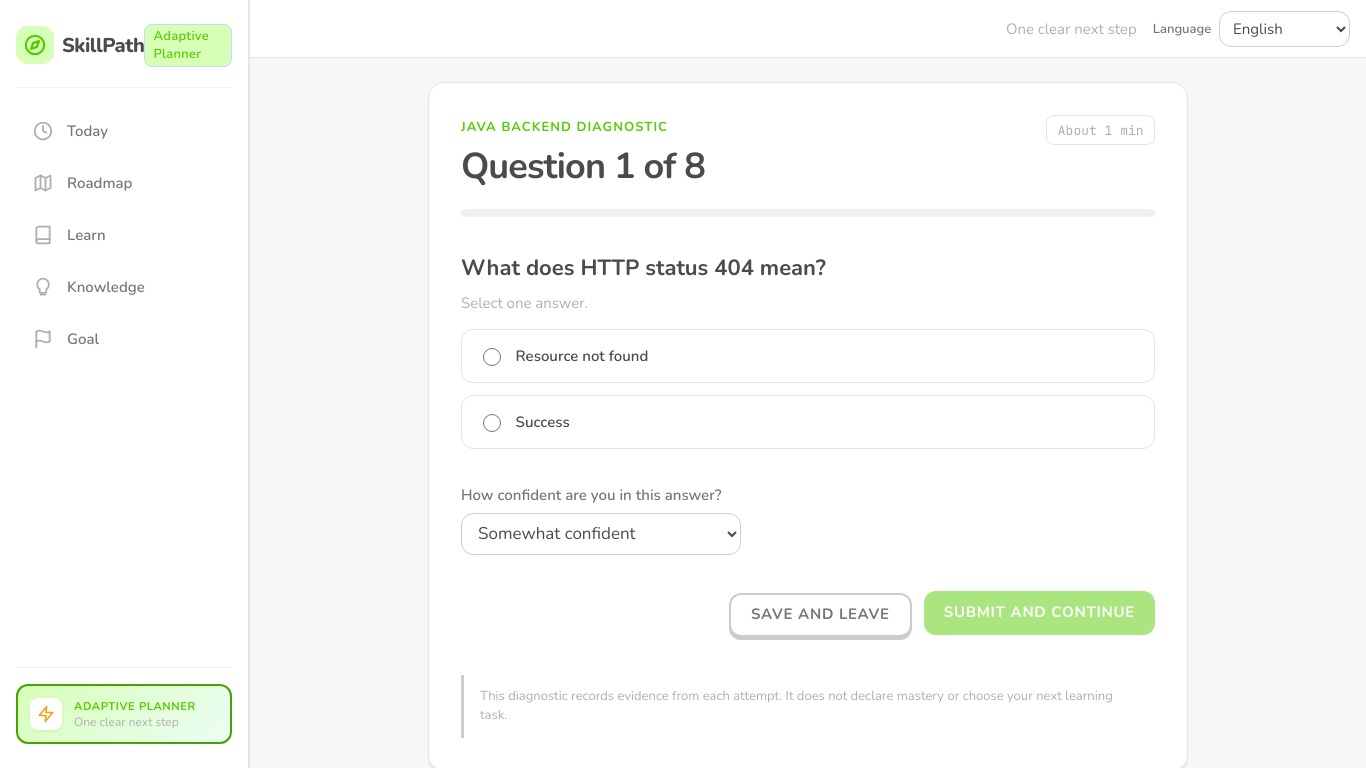
DiagnosticPage › switches server content language without losing the current selection
This screenshot has width=1366, height=768.
Click the radio button labelled "Resource not found" at (492, 357), box [483,348,501,366]
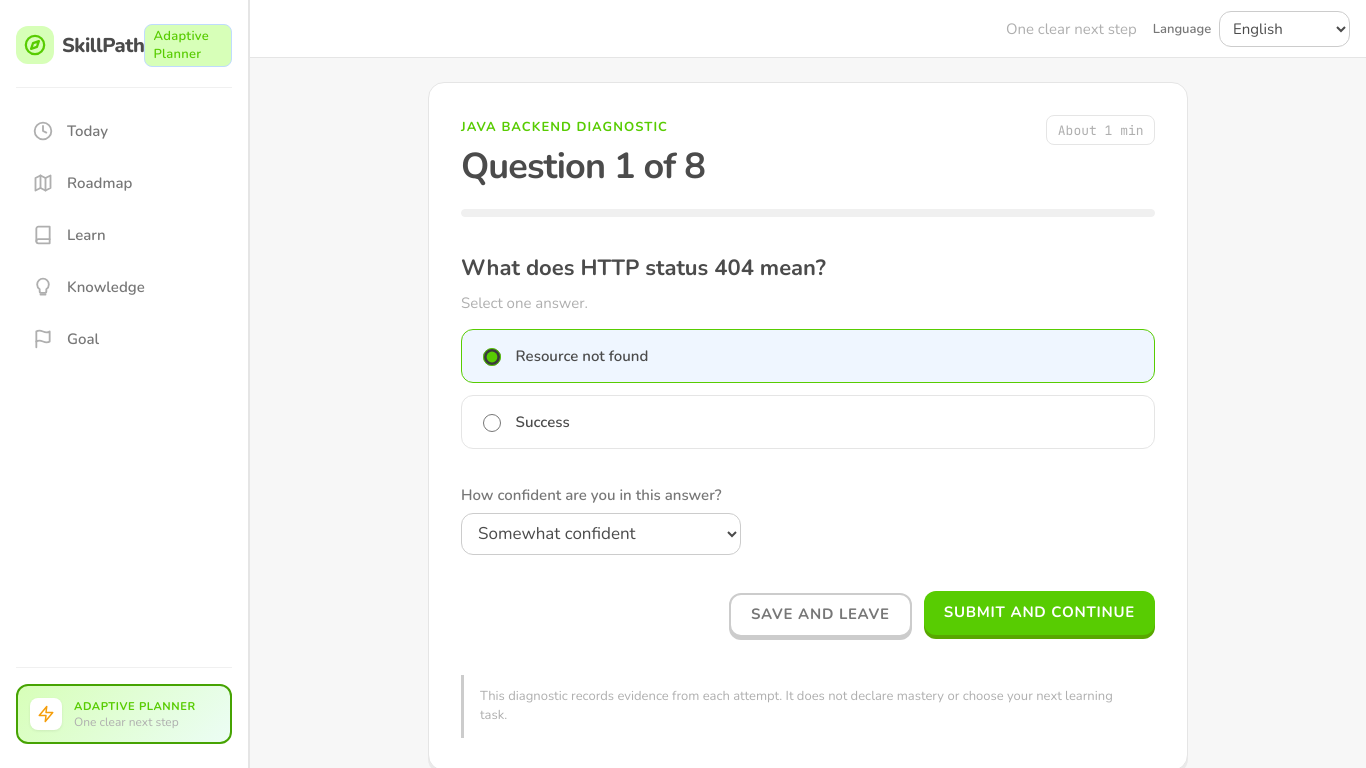
Result: the radio button labelled "Resource not found" is checked at [483,348,501,366]
Select "Tiếng Việt" in the dropdown labelled "Language" at (1285, 28), box [1219,10,1350,46]
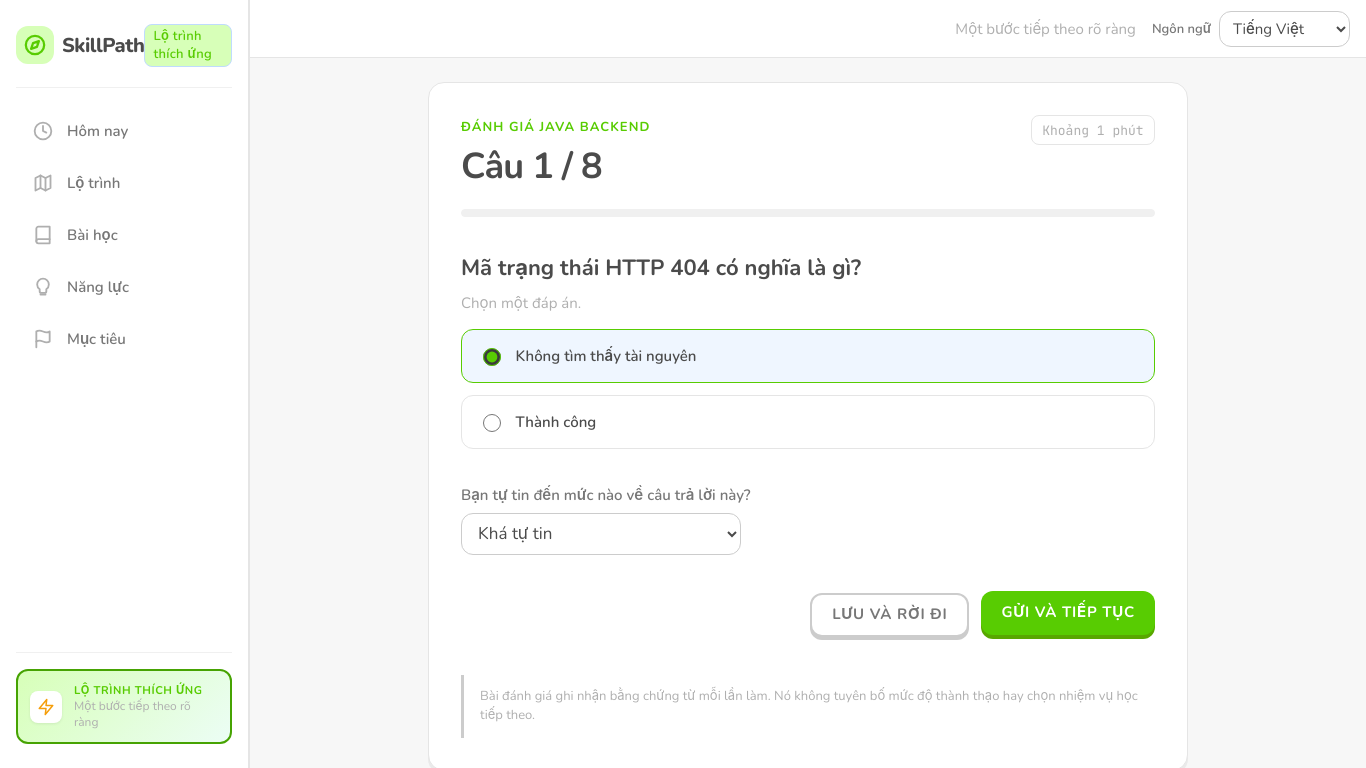
Result: the radio button labelled "Không tìm thấy tài nguyên" is checked at [483,348,501,366]
Result: the text "Mã trạng thái HTTP 404 có nghĩa là gì?" is shown at [461,253,861,285]
